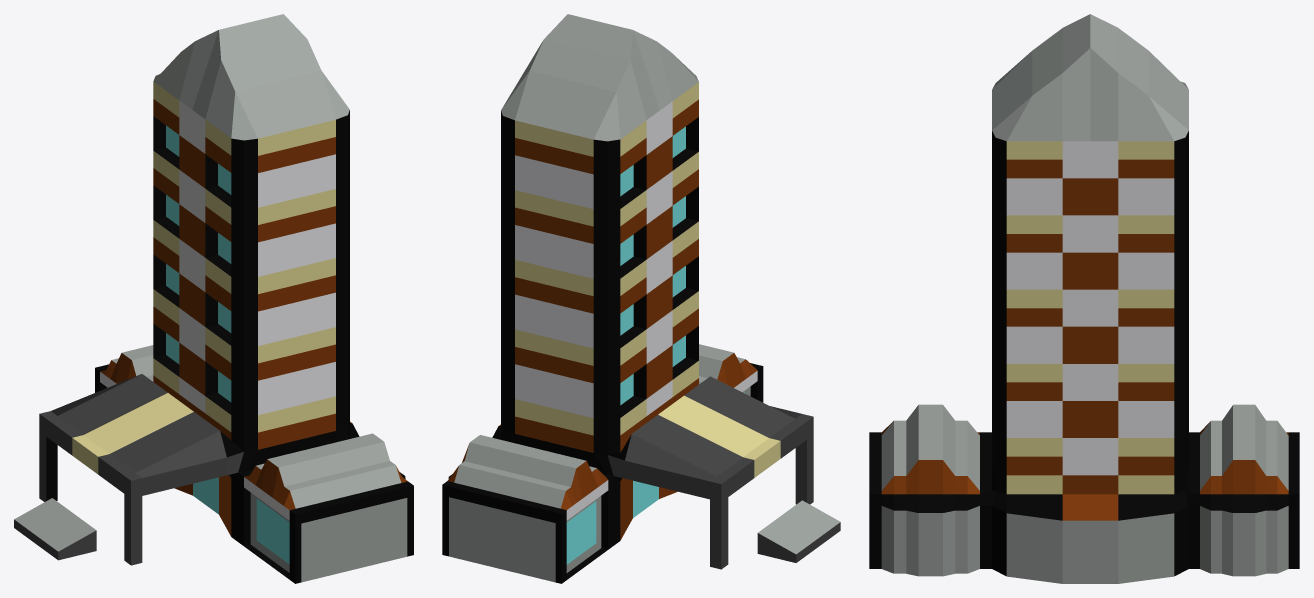
The model's file is tower.fbx.
3 renders of one model, left to right at view 1: azimuth 30°, elevation 25°; view 2: azimuth 150°, elevation 25°; view 3: azimuth 270°, elevation 25°, orthographic. The views are drawn at different scales.
Parts seen in each view (by area): view 1: Cube; view 2: Cube; view 3: Cube.
Boxes of the visible parts, left/top/right/bottom form: Cube: left=14, top=14, right=413, bottom=583; Cube: left=442, top=14, right=840, bottom=583; Cube: left=869, top=14, right=1299, bottom=583.
Bounding box in the file's own units: 5.13 × 7.61 × 5.86.
Materials: 1 (1 with a texture image).
